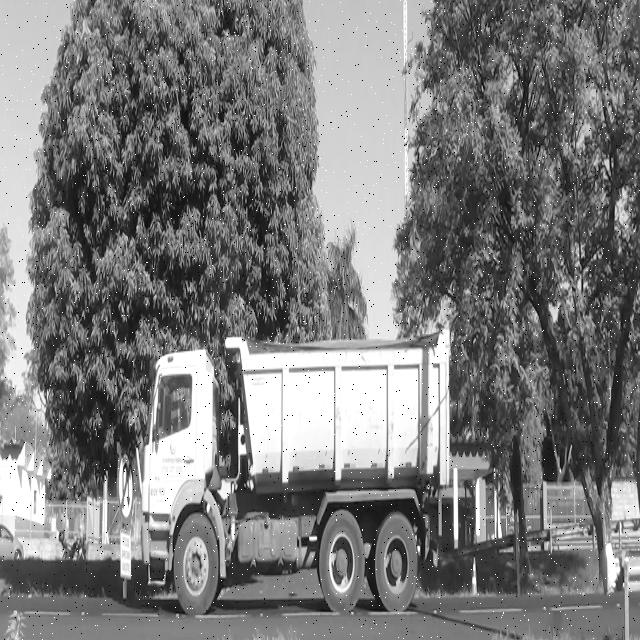-axle: (173, 515, 218, 616), (320, 511, 364, 614), (374, 514, 418, 611)
